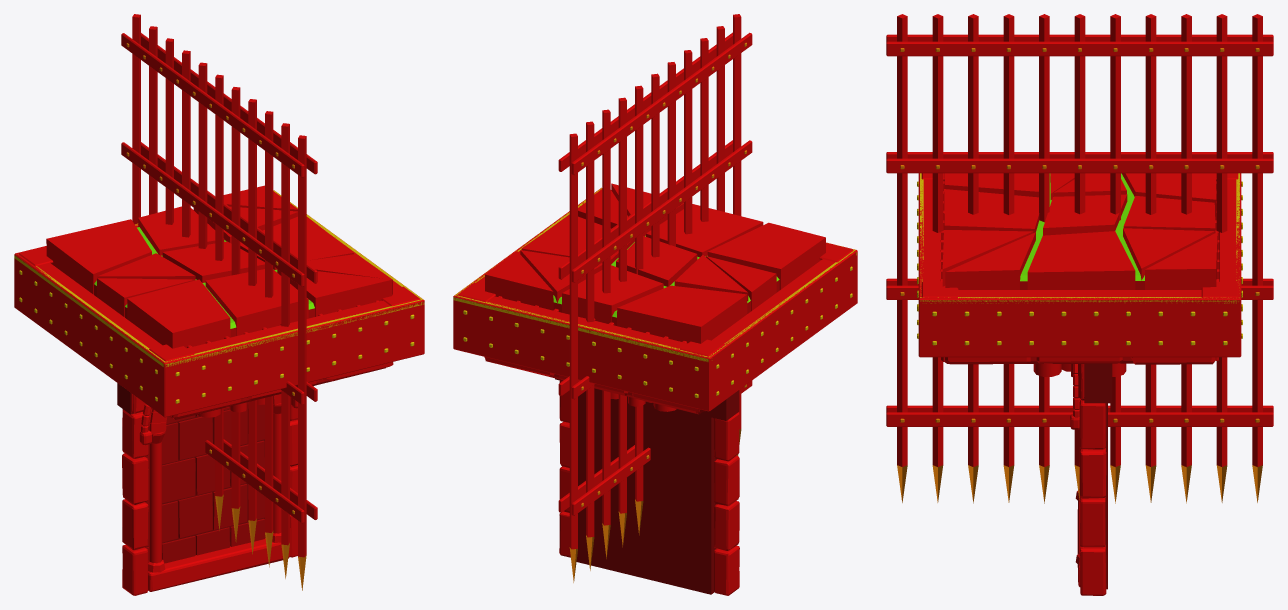
File: gothic_kit.glb
3 renders of one model, left to right at view 1: azimuth 30°, elevation 25°; view 2: azimuth 150°, elevation 25°; view 3: azimuth 270°, elevation 25°, orthographic. The views are drawn at different scales.
Parts seen in each view (by area): view 1: portcullis, cracked, grate, arcade; view 2: portcullis, cracked, grate, arcade, ashlar_a; view 3: portcullis, cracked, grate, arcade, ashlar_a, pillar_capital.
Part boxes in pixels (bbox=[...]): portcullis: bbox=[121, 14, 317, 590]; cracked: bbox=[46, 185, 393, 419]; grate: bbox=[14, 190, 424, 417]; arcade: bbox=[122, 394, 297, 595]; portcullis: bbox=[558, 14, 752, 582]; cracked: bbox=[484, 183, 825, 414]; grate: bbox=[453, 187, 857, 411]; arcade: bbox=[559, 380, 739, 595]; ashlar_a: bbox=[555, 378, 739, 420]; portcullis: bbox=[886, 14, 1273, 503]; cracked: bbox=[941, 173, 1218, 364]; grate: bbox=[917, 173, 1242, 357]; arcade: bbox=[1070, 364, 1107, 595]; ashlar_a: bbox=[1082, 363, 1112, 403]; pillar_capital: bbox=[1033, 363, 1126, 376].
Size of the model in its own units: 3.03 by 5.5 by 3.6.
